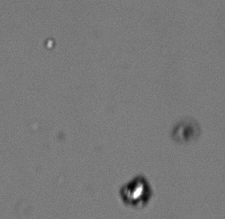Dead Cell: (173, 119, 199, 144)
Living Cell: (120, 175, 153, 207)
